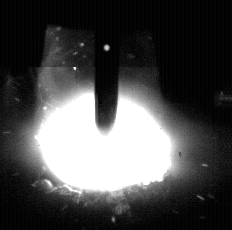arame: (95, 0, 120, 135)
poca: (35, 0, 172, 230)
